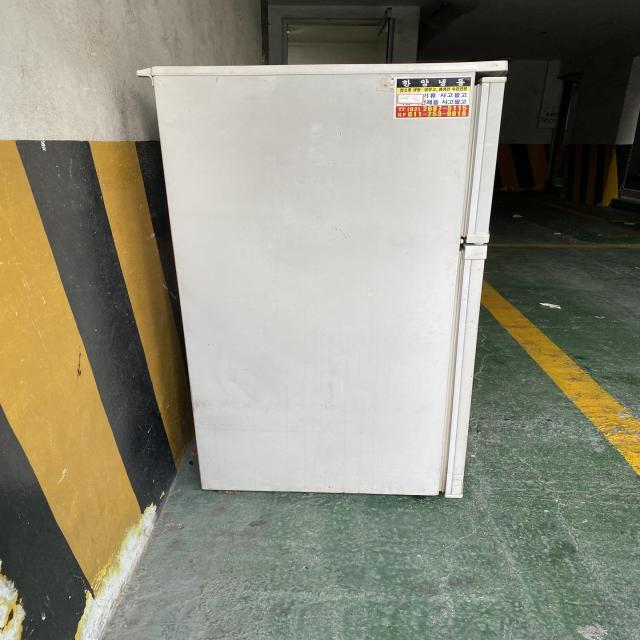refrigerator: (134, 58, 512, 504)
